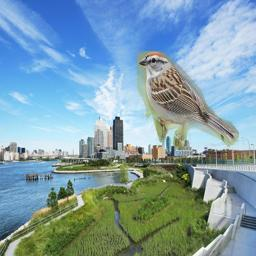Sparrow: (137, 51, 239, 150)
